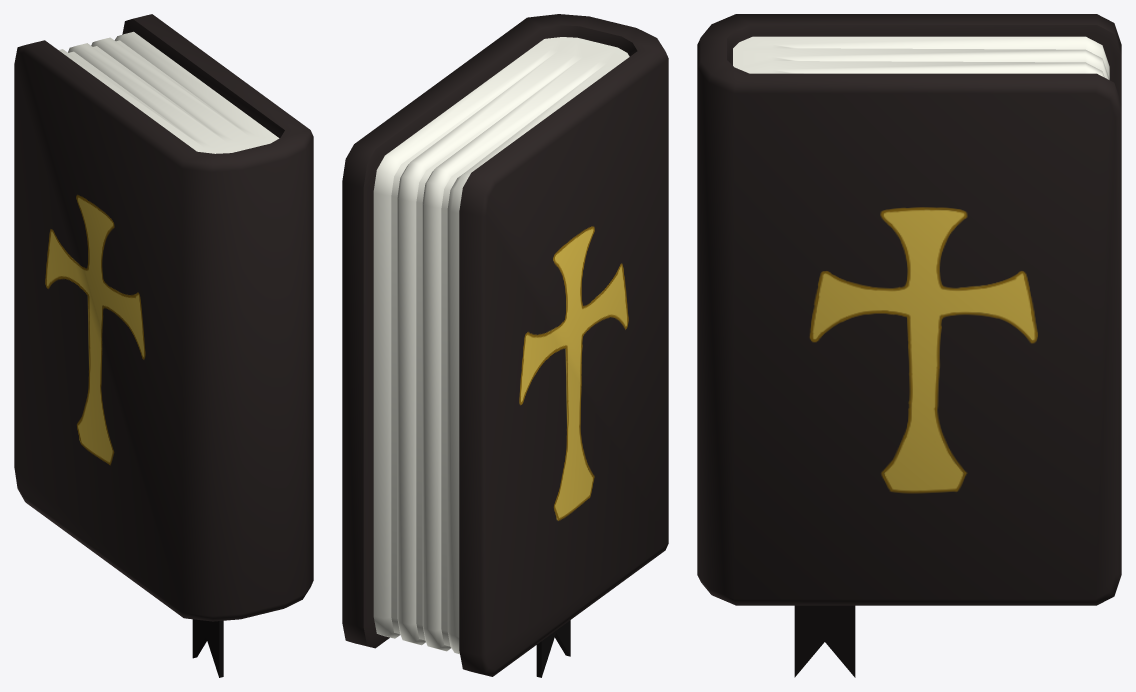
The model's file is BookSSS.fbx.
3 views of the same model, side by side, from view 1: azimuth 30°, elevation 25°; view 2: azimuth 150°, elevation 25°; view 3: azimuth 270°, elevation 25° (orthographic). The views are drawn at different scales.
Parts seen in each view (by area): view 1: Book SSS; view 2: Book SSS; view 3: Book SSS.
Part boxes in pixels (x1=…): Book SSS: x1=14, y1=14, x2=313, y2=677; Book SSS: x1=342, y1=14, x2=668, y2=677; Book SSS: x1=697, y1=14, x2=1121, y2=677.
Size of the model in its own units: 0.2134 by 0.8547 by 0.524.
